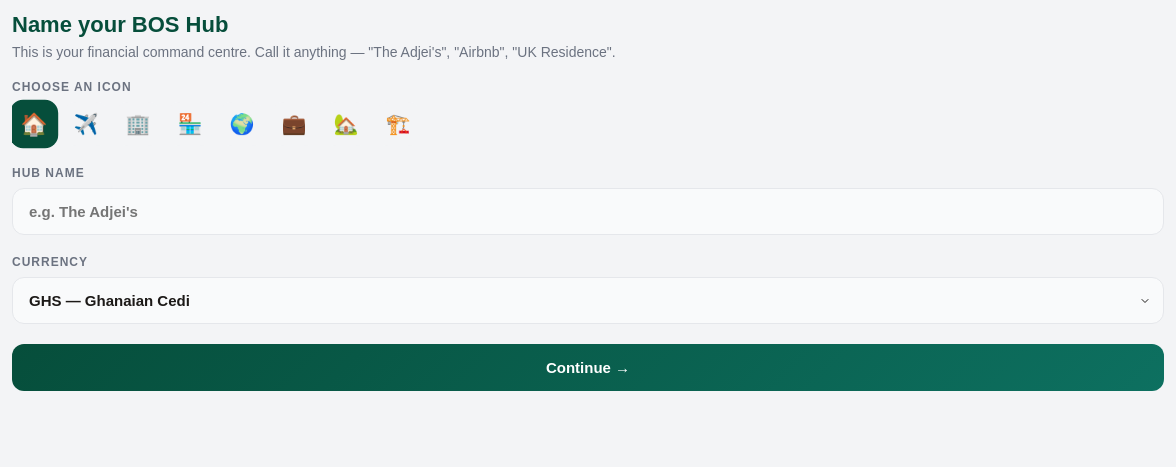
Test: StepCentre › shows validation error when name is empty
Click the button "Continue →": (588, 368) [12,344,1164,391]
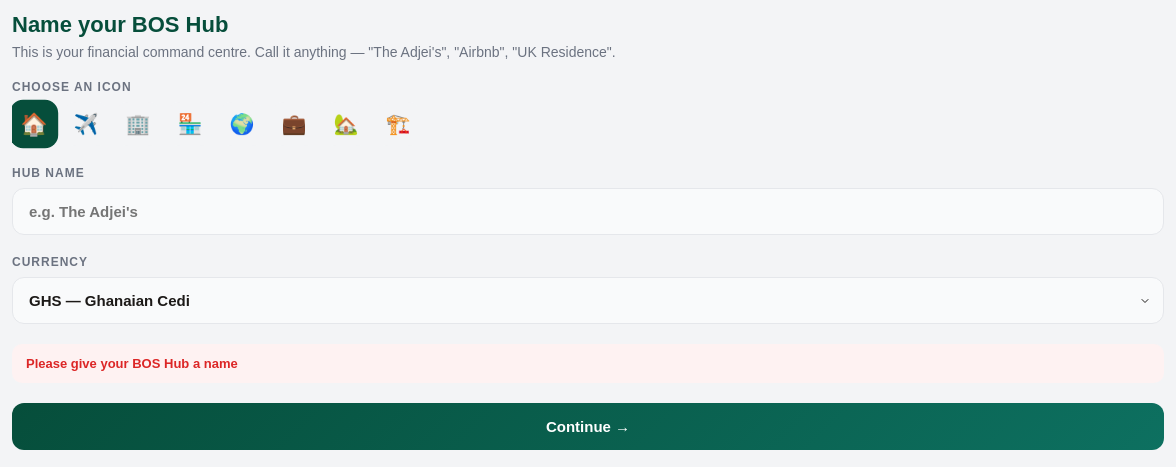
Check: the text "Please give your BOS Hub a name" is shown, box [26,356,238,371]
